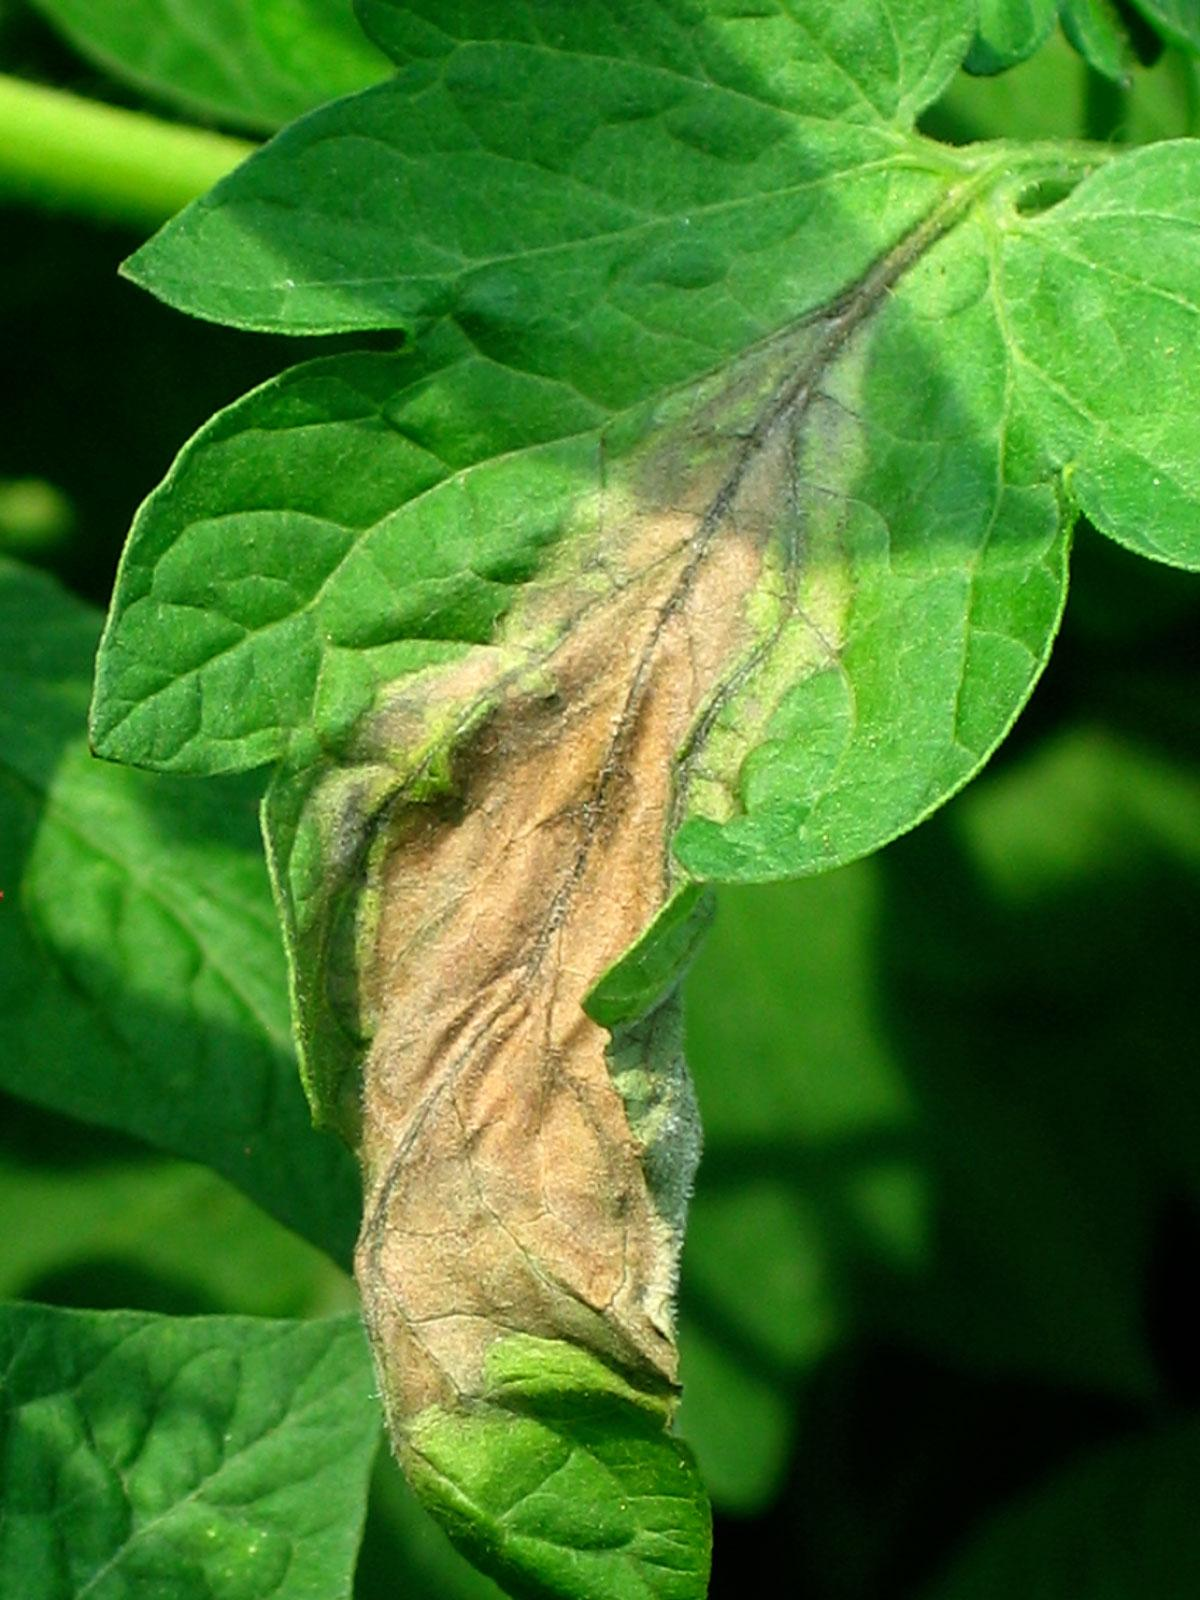Tomato leaf late blight: (67, 10, 1182, 1576)
